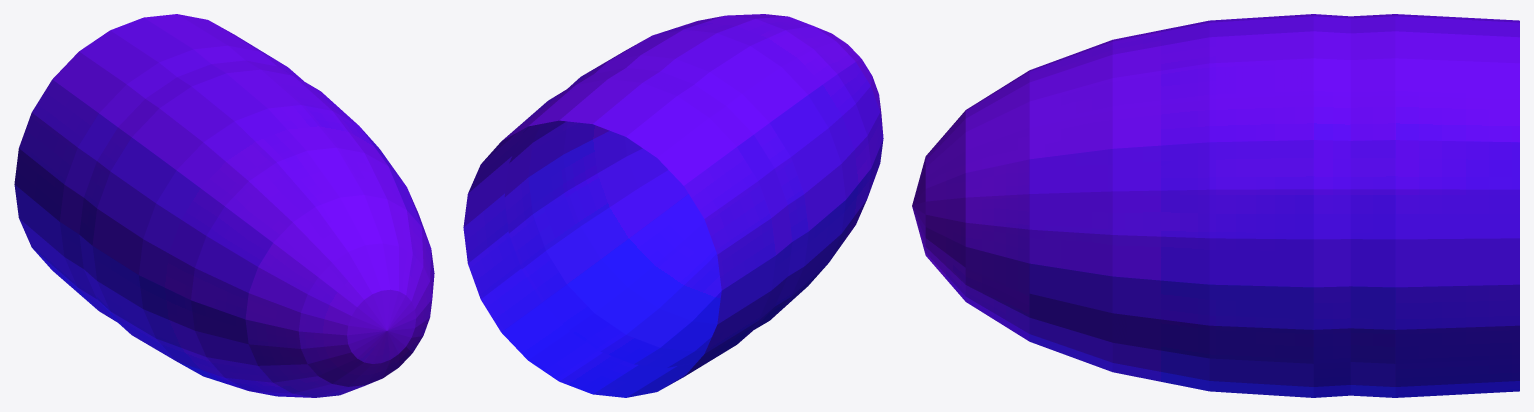
The model's file is proj_majicball.fbx.
The picture shows the model from 3 angles, left to right: view 1: azimuth 30°, elevation 25°; view 2: azimuth 150°, elevation 25°; view 3: azimuth 270°, elevation 25°; orthographic projection. The views are drawn at different scales.
Parts seen in each view (by area): view 1: mesh_cone (1), mesh_cone; view 2: mesh_cone, mesh_cone (1); view 3: mesh_cone (1), mesh_cone.
Part boxes in pixels (box(x1,y1,x2,y2)): mesh_cone (1): box(79, 60, 434, 397); mesh_cone: box(14, 14, 303, 322); mesh_cone: box(463, 68, 792, 397); mesh_cone (1): box(504, 14, 883, 367); mesh_cone (1): box(912, 14, 1350, 397); mesh_cone: box(1350, 14, 1519, 397).
Bounding box in the file's own units: 0.7152 × 0.7152 × 1.13.
2 materials, 2 textured.
